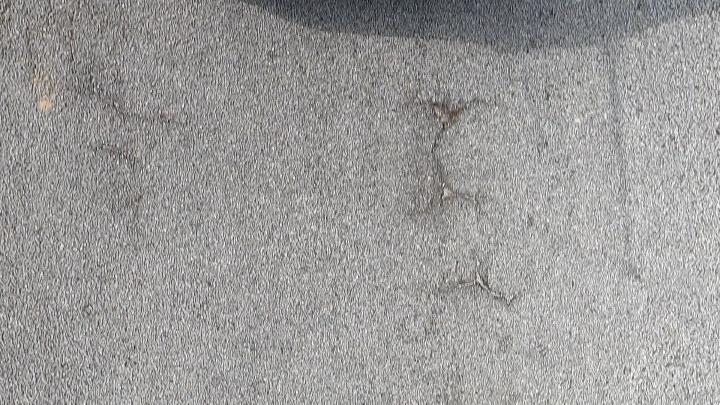Crack: (414, 95, 500, 223), (417, 98, 491, 221), (434, 234, 514, 304), (439, 239, 516, 304)
